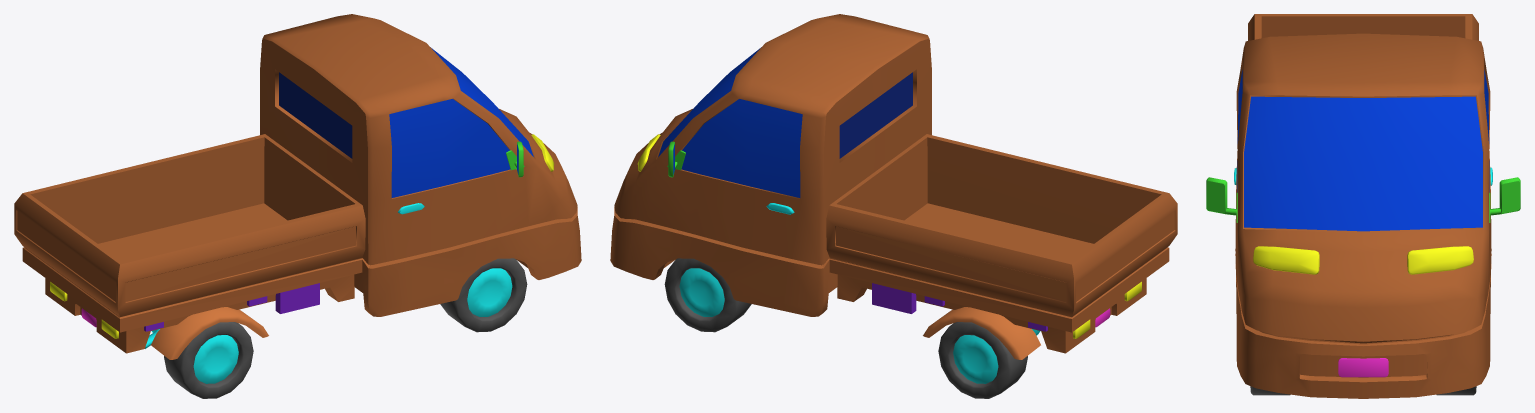
The model's file is KeiTruck_Mesh.fbx.
3 views of the same model, side by side, from view 1: azimuth 30°, elevation 25°; view 2: azimuth 150°, elevation 25°; view 3: azimuth 270°, elevation 25° (orthographic). The views are drawn at different scales.
Visible parts, largest first — view 1: KeiTruck; view 2: KeiTruck; view 3: KeiTruck.
Part boxes in pixels (x1,y1,x2,y2): KeiTruck: (14, 14, 581, 398); KeiTruck: (610, 14, 1177, 398); KeiTruck: (1206, 14, 1520, 398).
Bounding box in the file's own units: 346 × 176 × 173.
